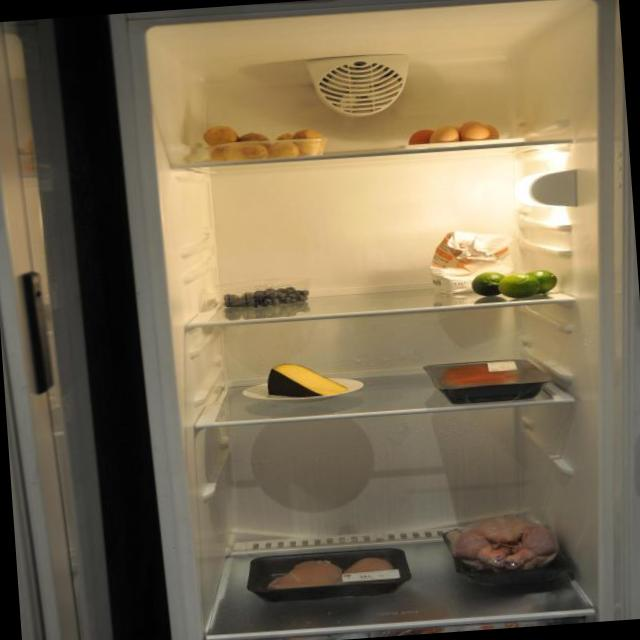Carne pollo: (255, 542, 410, 596), (441, 513, 562, 575)
Carne vacuno: (428, 356, 546, 396)
Huevos: (403, 116, 519, 151)
Patata: (200, 111, 325, 166)
Queso: (266, 356, 355, 403)
